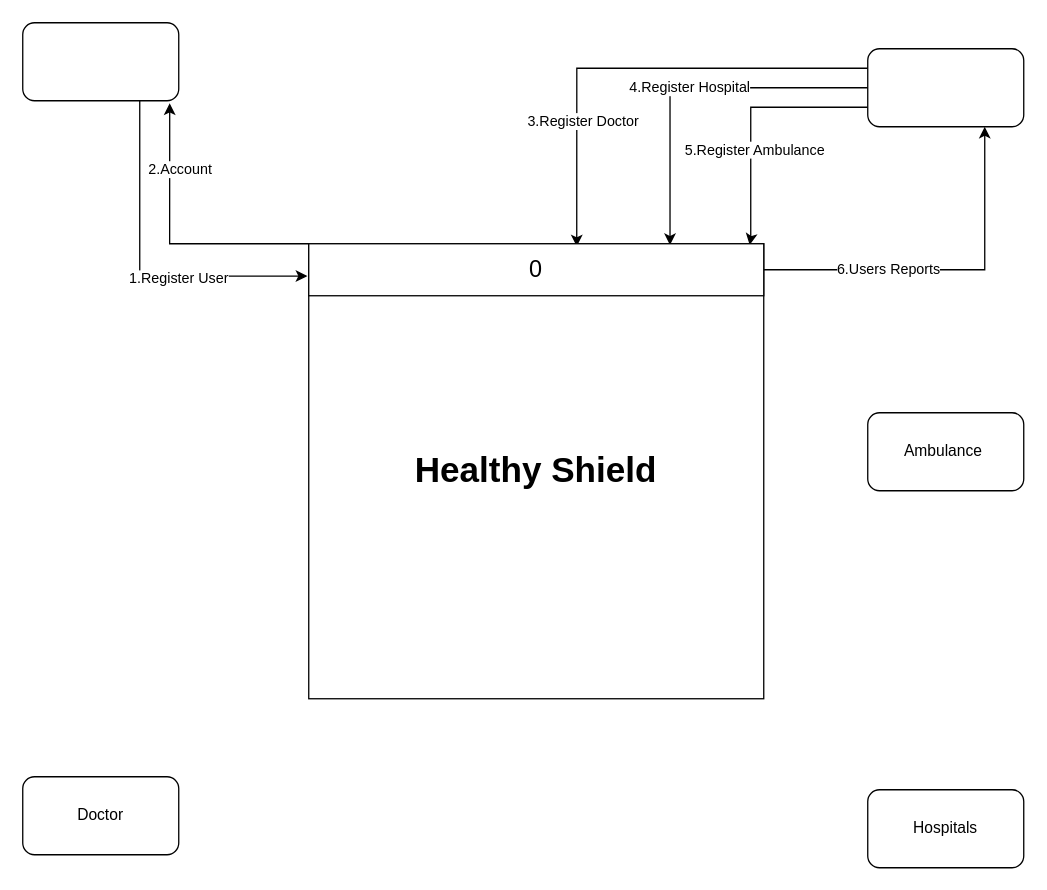
Some shapes in this 1047 by 890 pixel diagram are drawn without their labels. The centre of each missing label's shape, as x and y in pixels:
"Admin" belongs at pixel 945 87.
"User" belongs at pixel 100 61.
